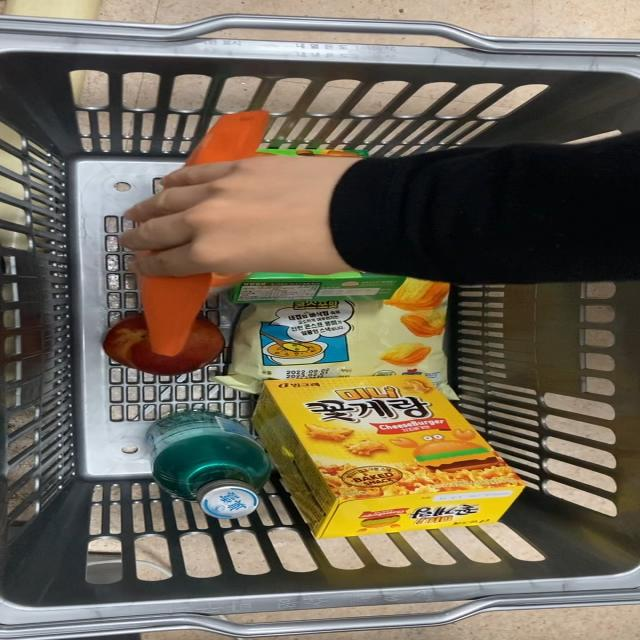ggobukchip: (256, 293, 466, 372)
jinro: (143, 416, 263, 513)
minicrab: (268, 376, 520, 537)
plum: (108, 318, 232, 382)
